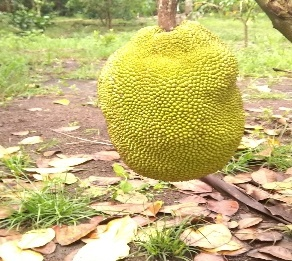Mit: (99, 26, 252, 178)
